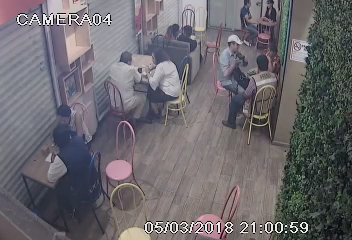ocupado: (17, 106, 117, 214), (104, 40, 195, 128), (216, 41, 285, 122), (158, 18, 228, 57), (235, 1, 282, 46)
